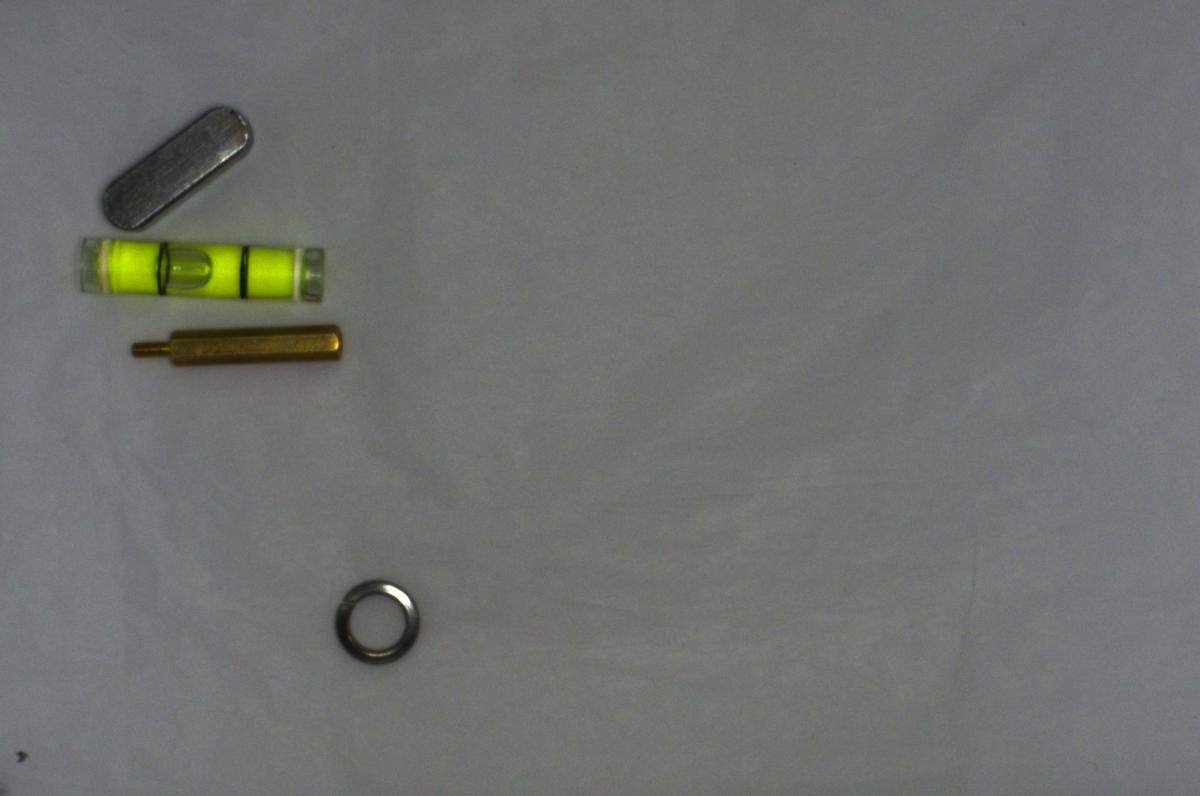Hexagon pillar: (114, 318, 346, 370)
Horizontal bubble: (70, 229, 335, 313)
Keybar: (91, 96, 260, 233)
Spring washer: (327, 574, 422, 665)
